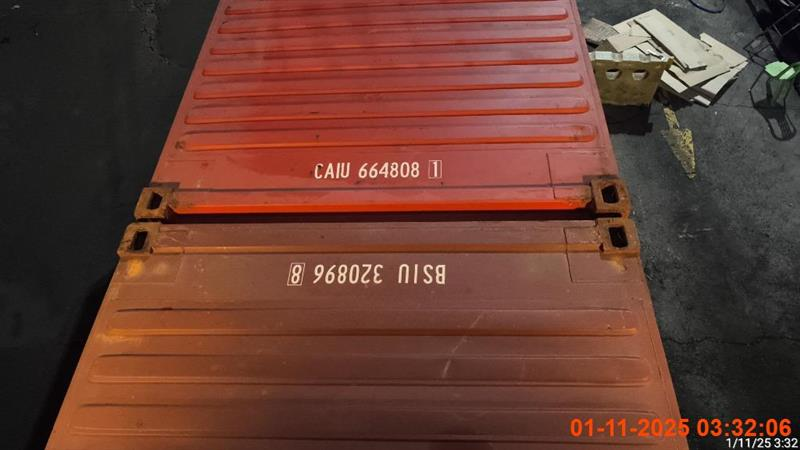broken: (45, 0, 687, 443)
